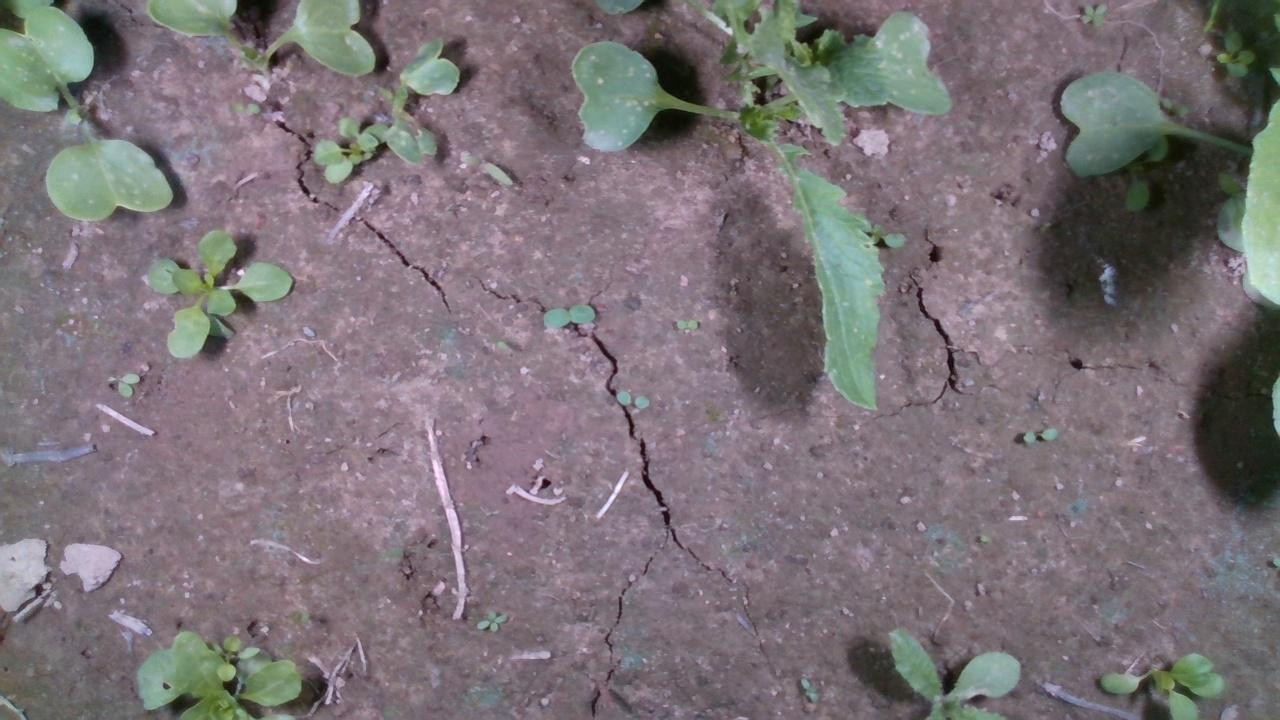weed: (1213, 28, 1256, 79), (540, 301, 595, 328), (102, 371, 143, 397), (473, 606, 507, 633), (1077, 0, 1108, 26), (613, 390, 650, 410), (1021, 424, 1058, 444), (674, 316, 700, 331)
